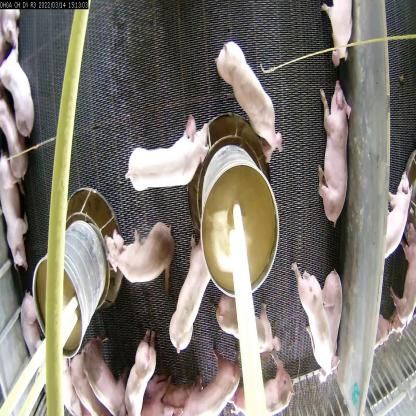Pig: (218, 32, 291, 159), (117, 109, 216, 191), (312, 63, 352, 221), (160, 360, 245, 416), (99, 213, 172, 276), (0, 47, 45, 147), (168, 238, 206, 351), (75, 327, 122, 412), (295, 258, 330, 362), (318, 277, 353, 380), (231, 360, 291, 416), (0, 162, 29, 268), (122, 332, 154, 416), (323, 0, 355, 66)
